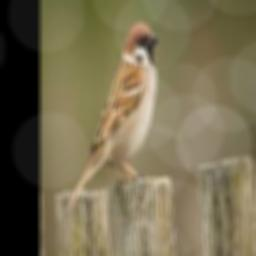Sparrow: (66, 21, 158, 217)
